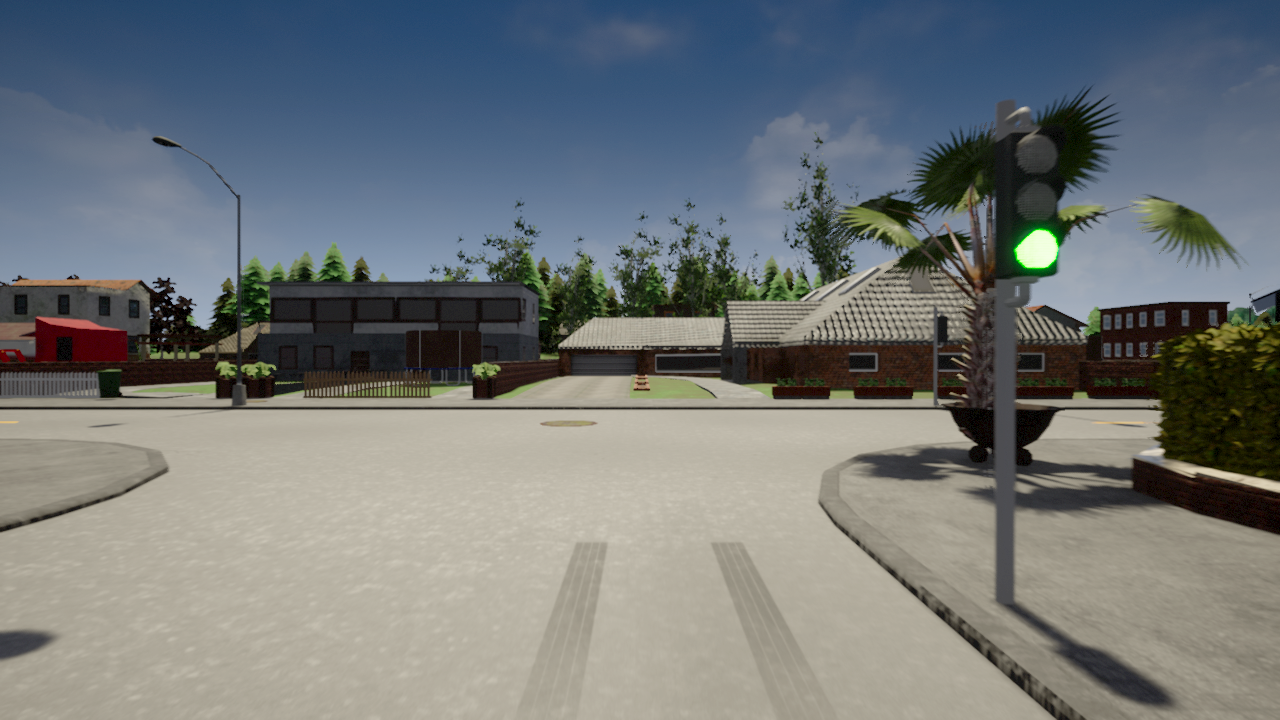green: (993, 139, 1064, 285)
